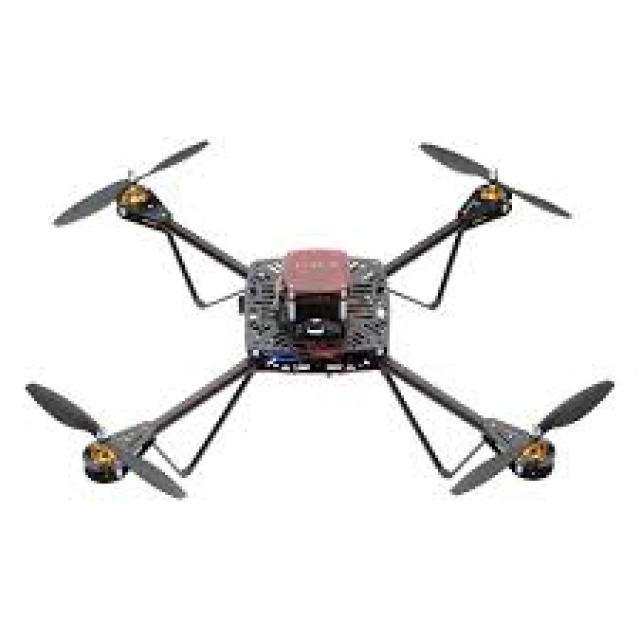drone: (0, 122, 640, 559)
